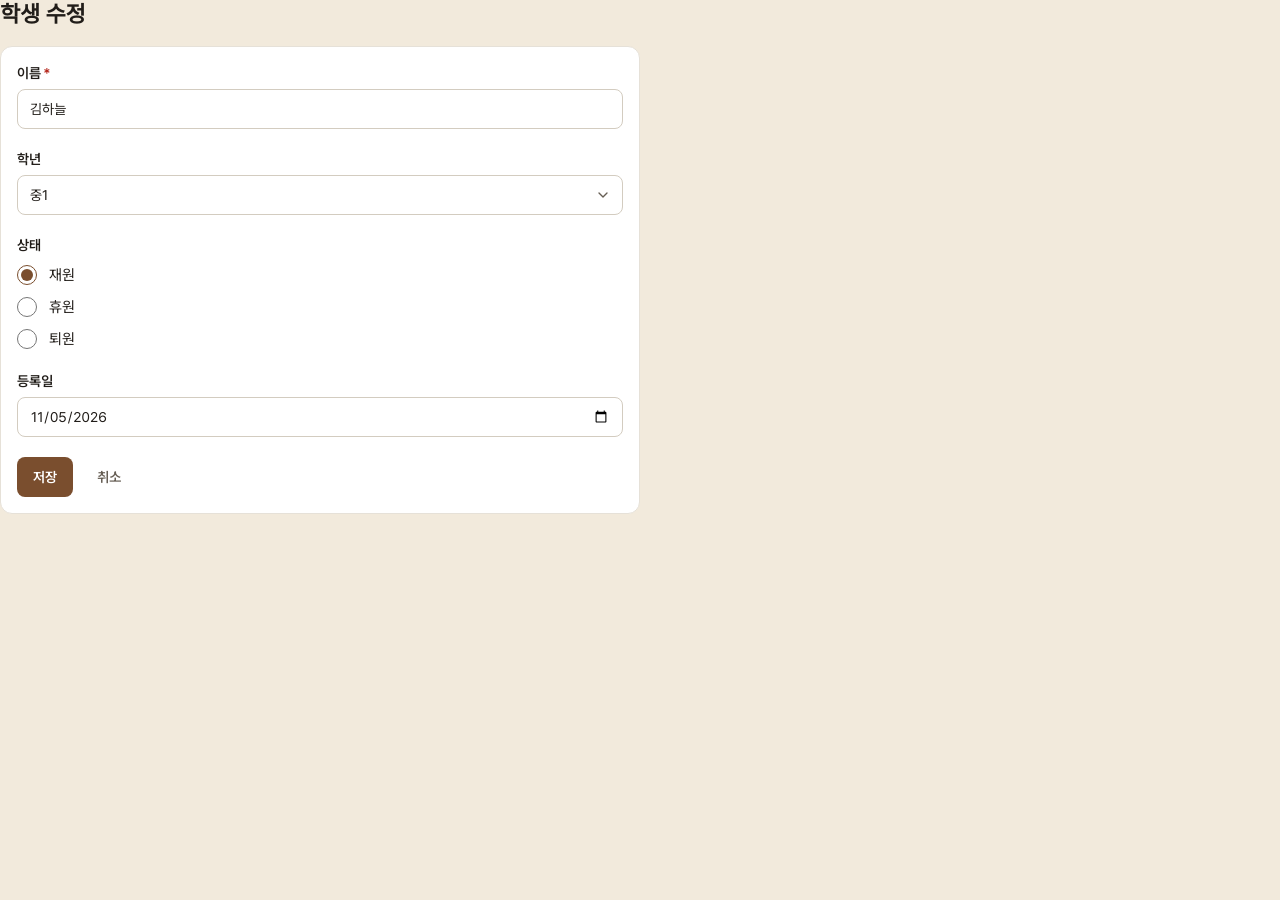
Test: StudentEditScreen › keeps the form when the modal is cancelled
The image size is (1280, 900).
Click the radio button labelled "퇴원". click: (27, 339)
box: [17,329,37,349]
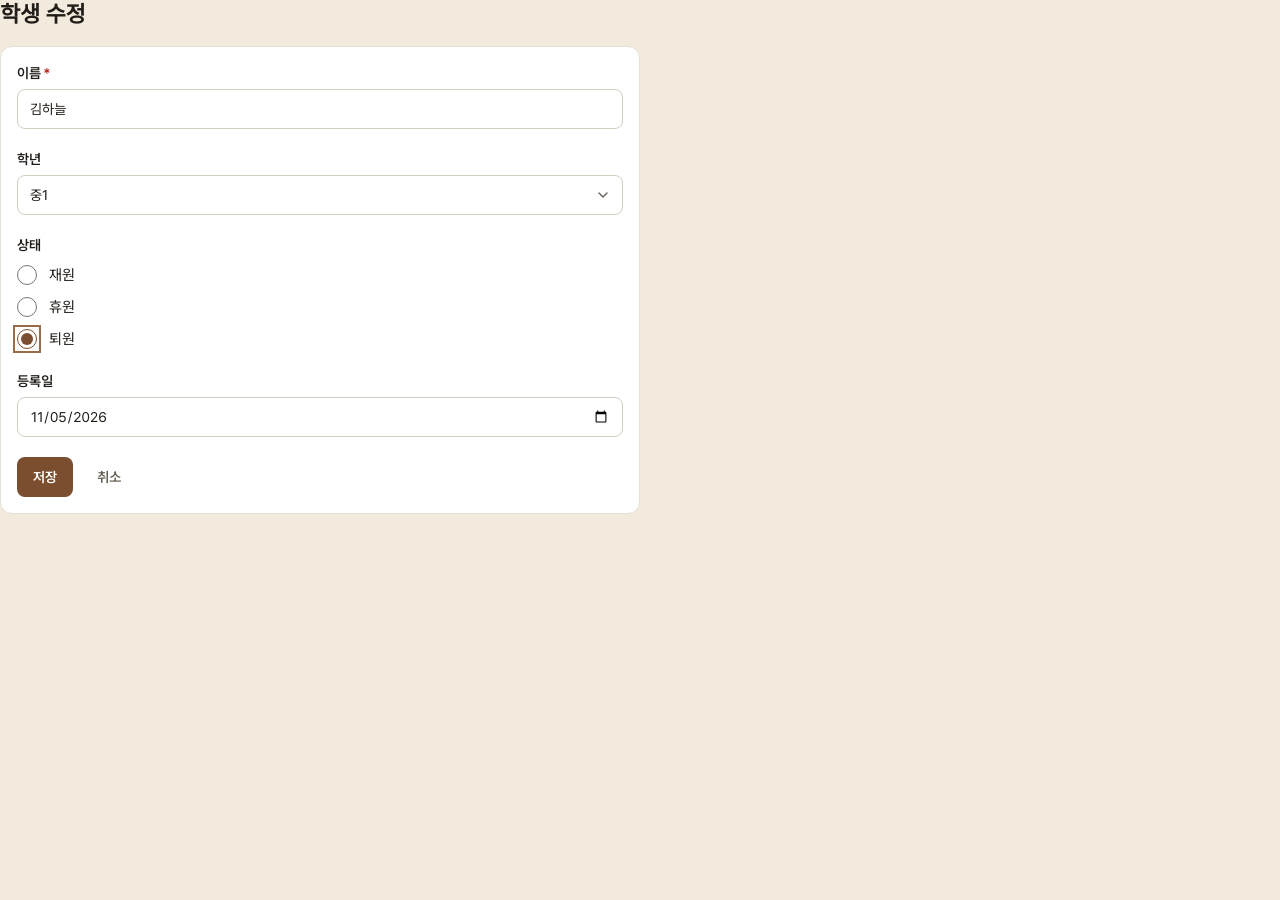
Click the button "저장". click: (45, 477)
box: [17,457,73,497]
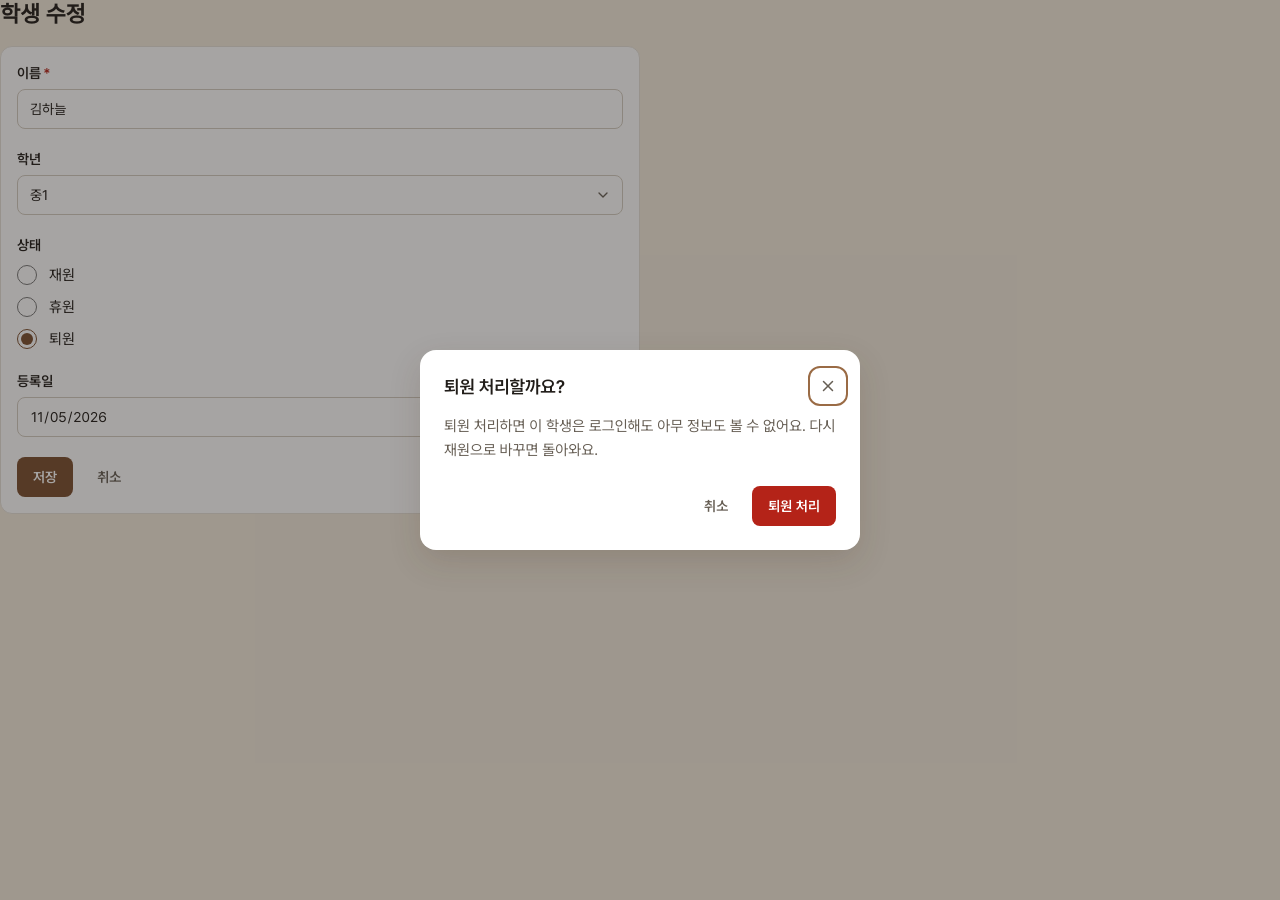
Expected: the heading "퇴원 처리할까요?" is shown, [444,374,565,400]
Click the button "취소". click: (716, 506)
box: [688,486,744,526]
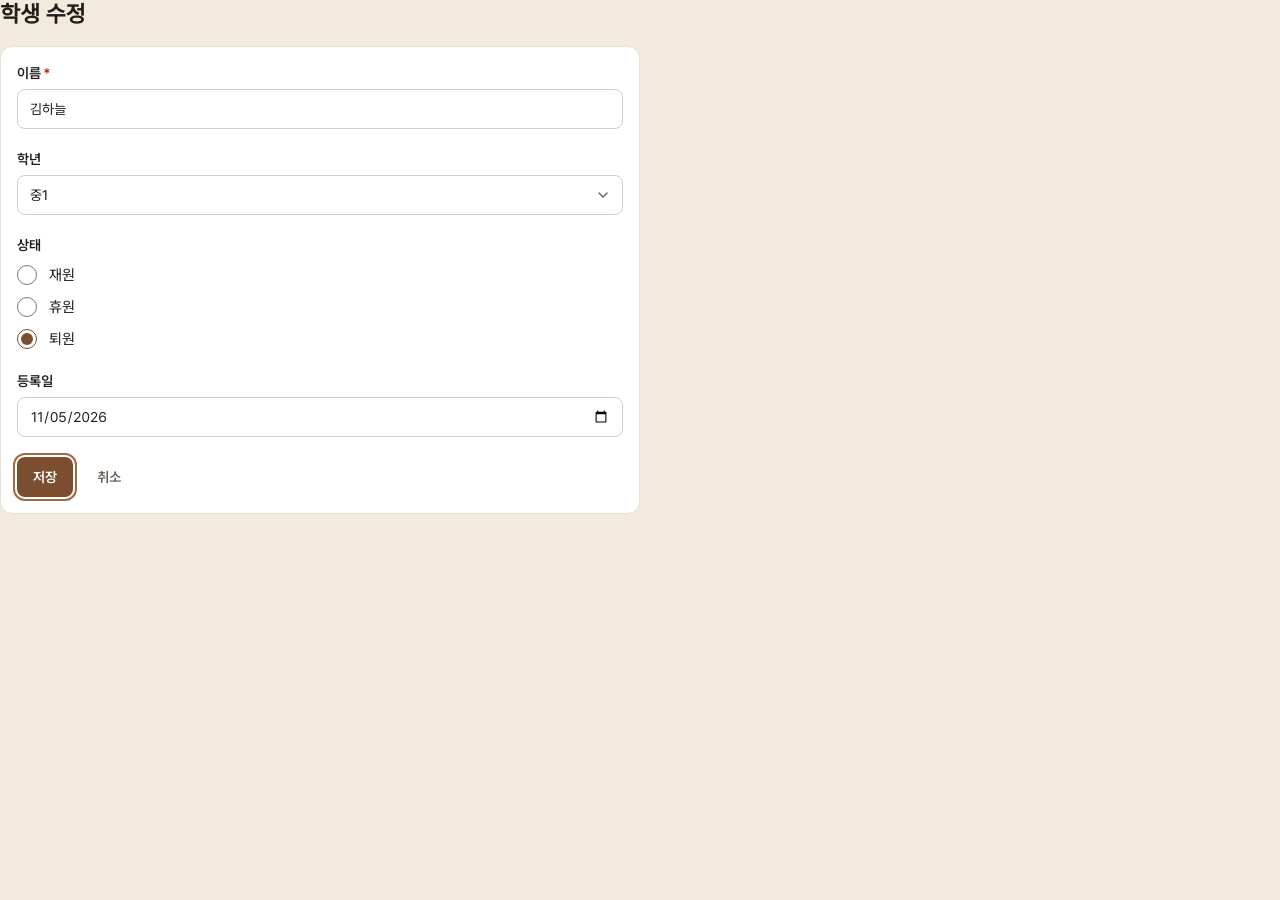
Expected: the radio button labelled "퇴원" is checked, [17,329,37,349]
Expected: the heading "퇴원 처리할까요?" is gone
